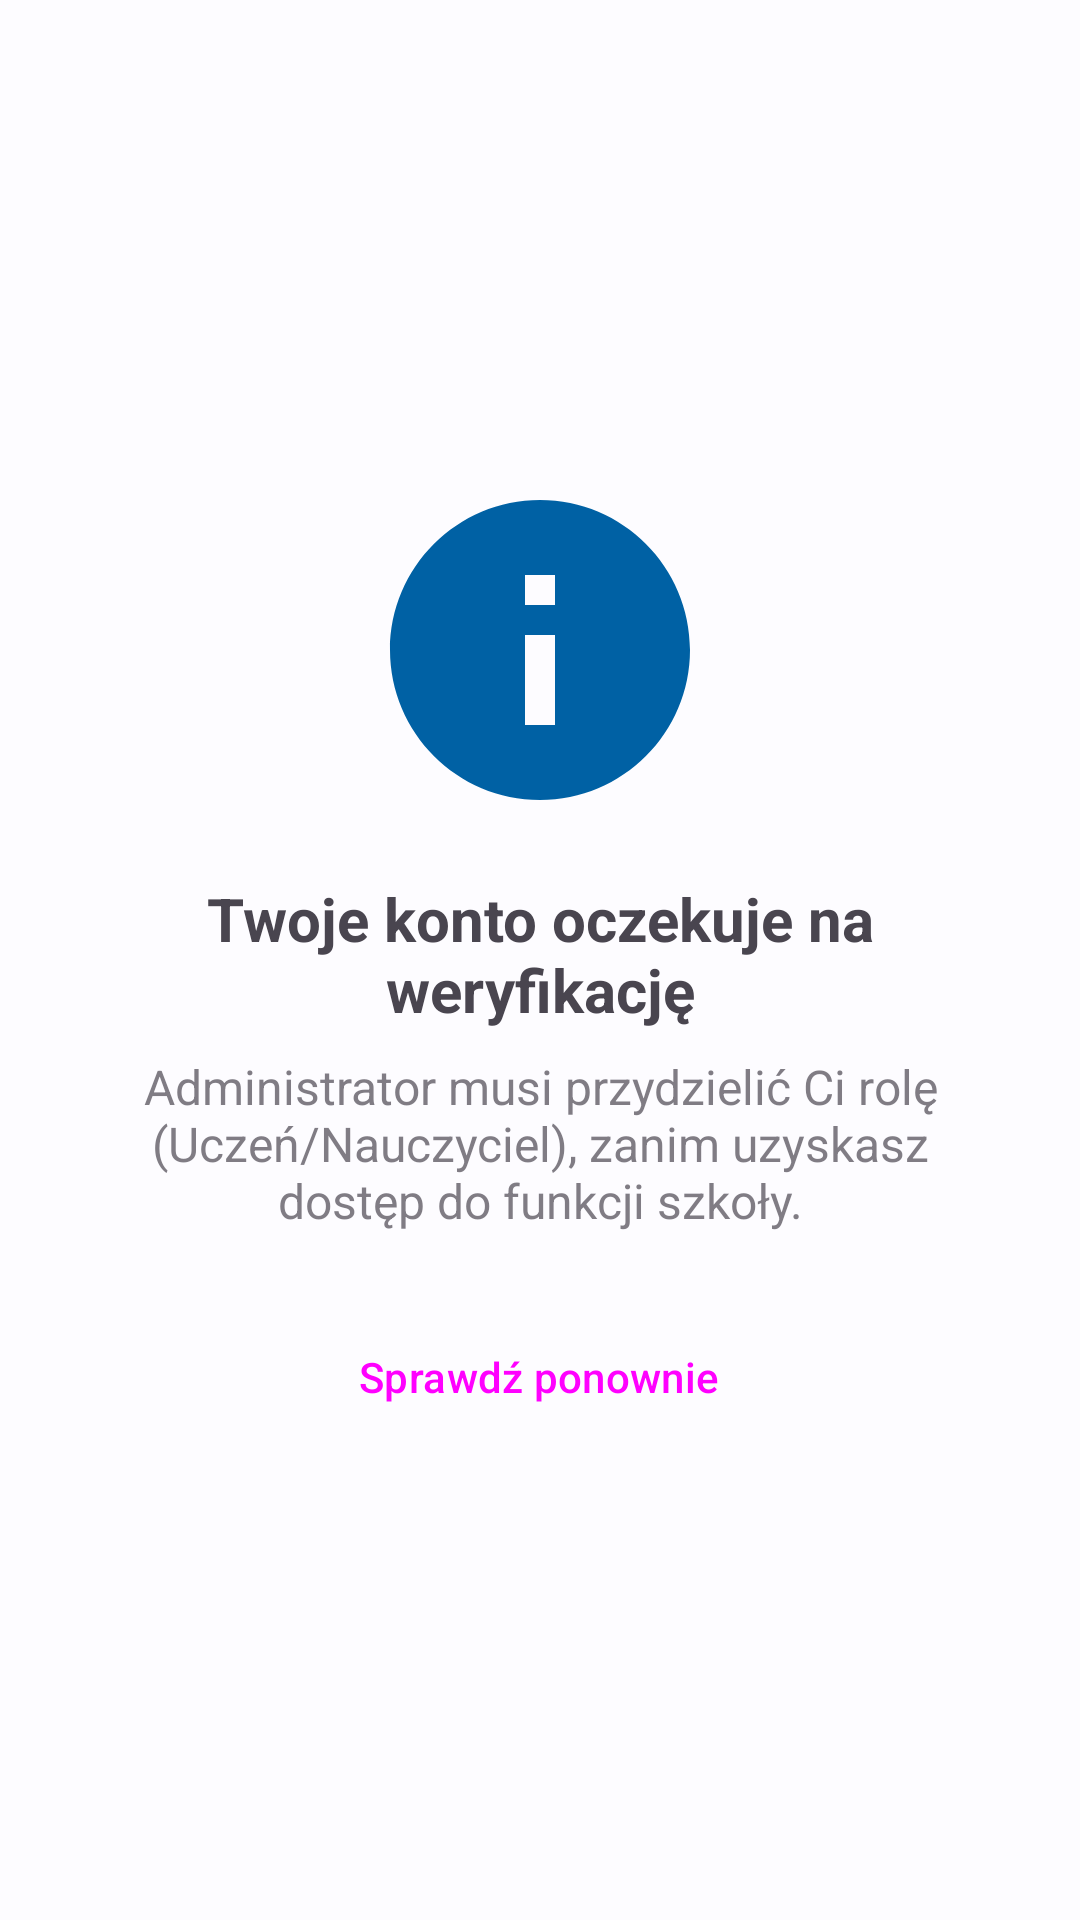

Icon click points for this 1080px x 1920px phone screenshot, format [x,y]:
Info: [540,650]
